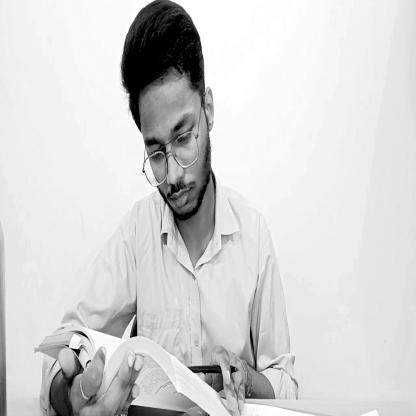Distracted: (126, 2, 218, 233)
